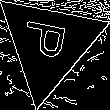P_E: (21, 21, 76, 67)
